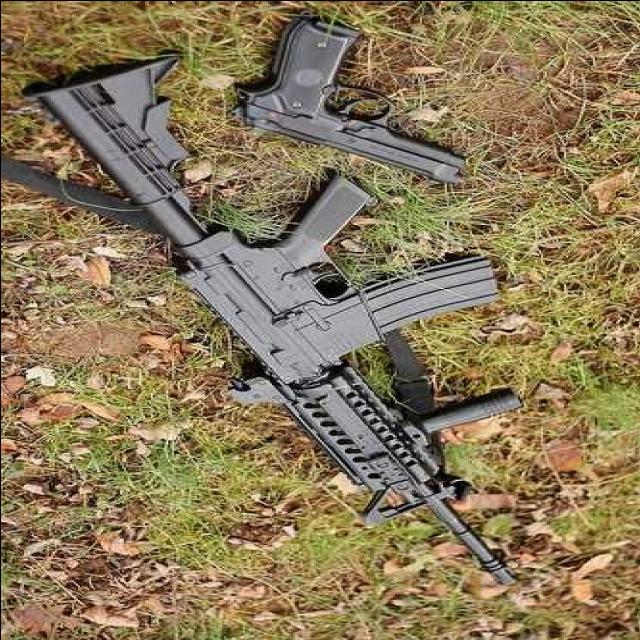heavyweapon: (13, 57, 532, 614)
